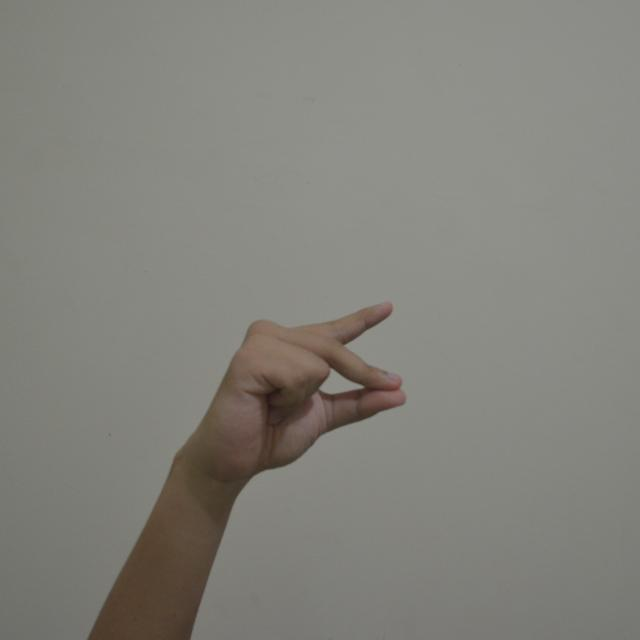R: (146, 288, 435, 506)
